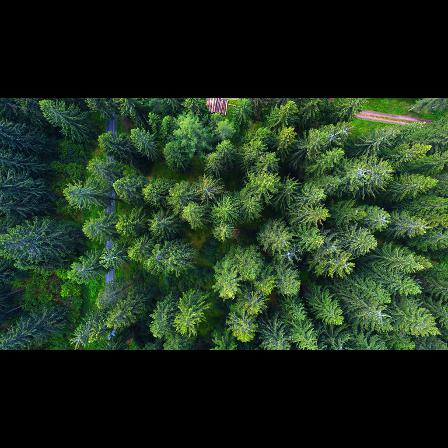Sick: (276, 246, 302, 266), (324, 125, 343, 148), (336, 259, 356, 276), (374, 210, 392, 228)
